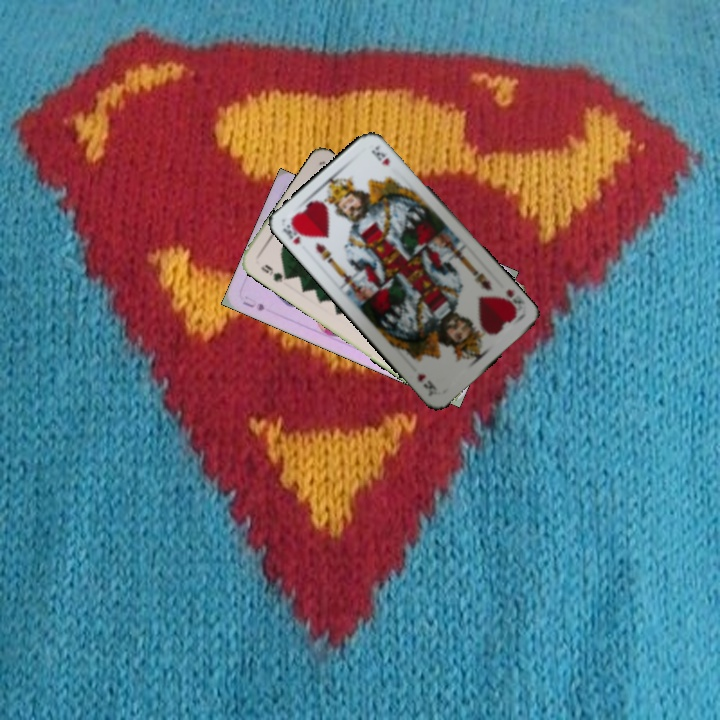G9: (256, 260, 292, 285)
HK: (278, 218, 306, 247), (502, 285, 524, 307)
SU: (238, 291, 267, 314)
